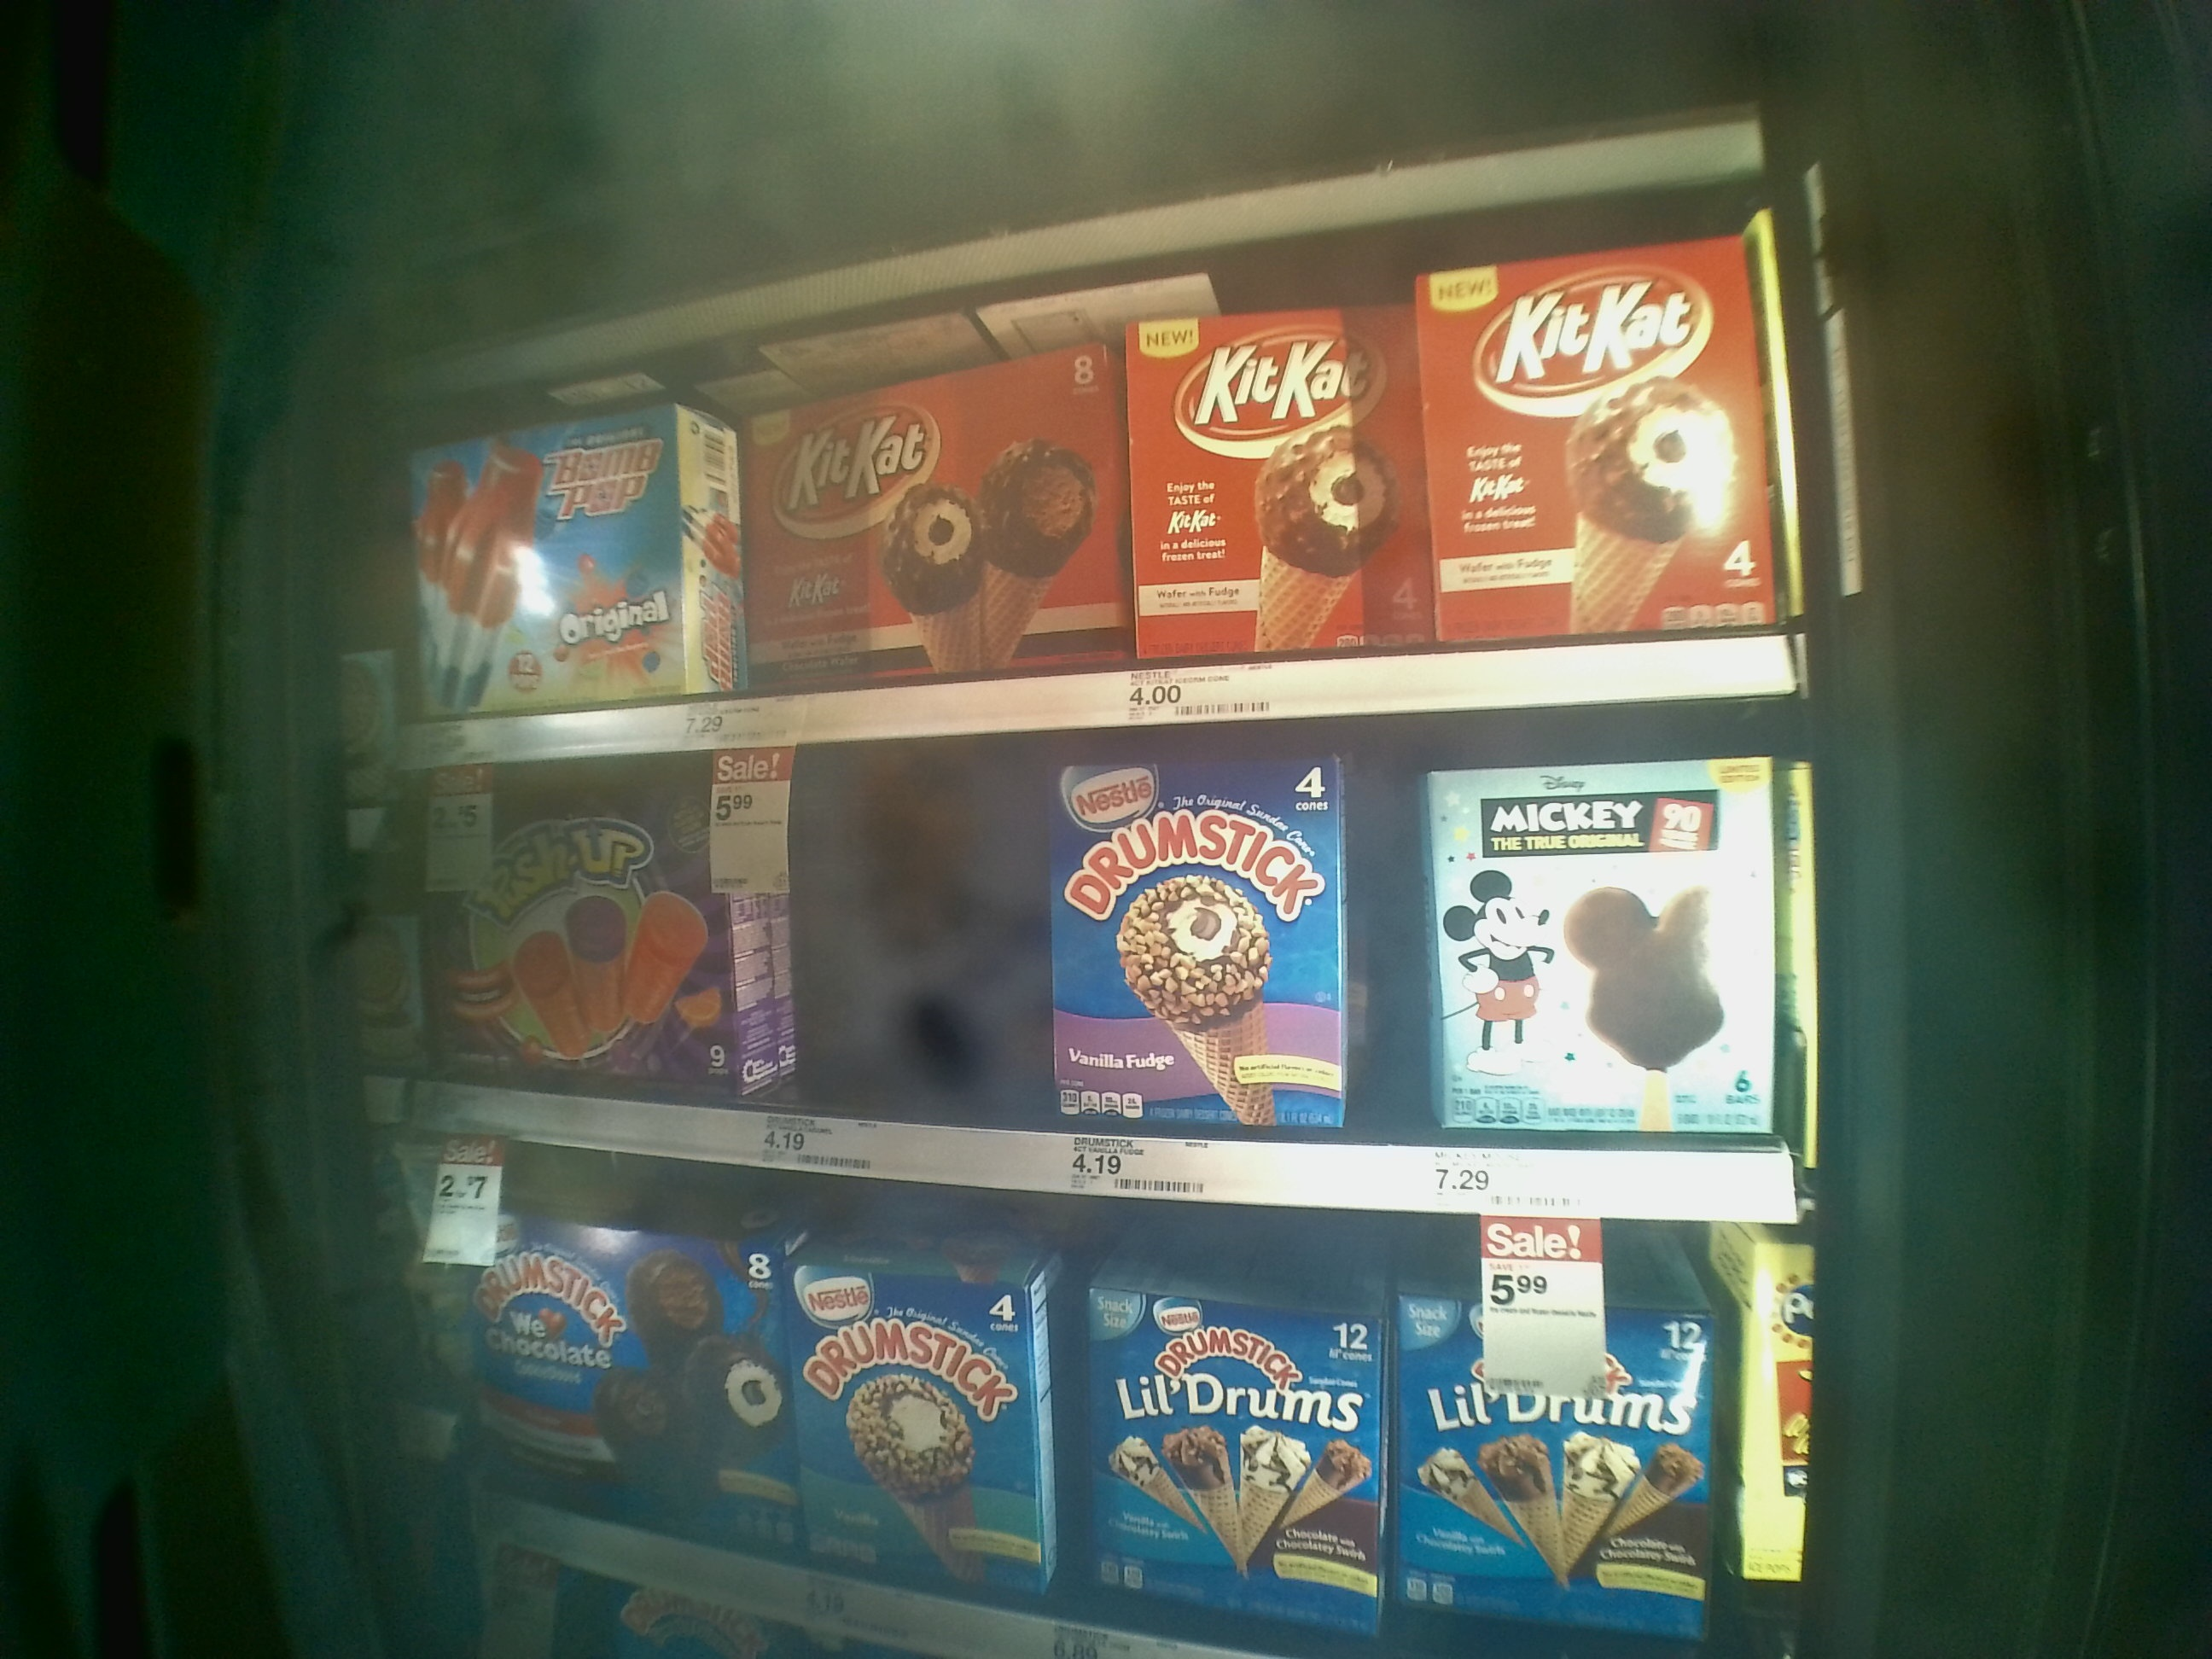shelf: (383, 159, 1811, 767), (381, 694, 1817, 1225)
